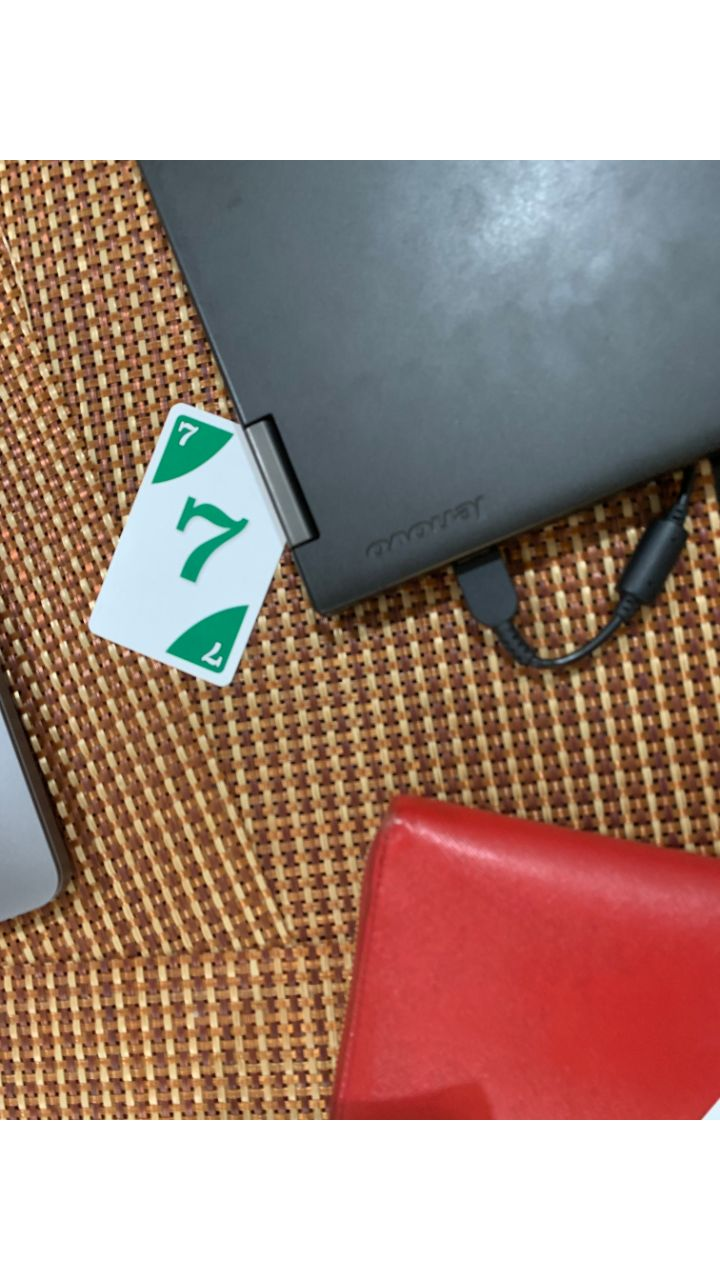seven: (86, 403, 302, 688)
